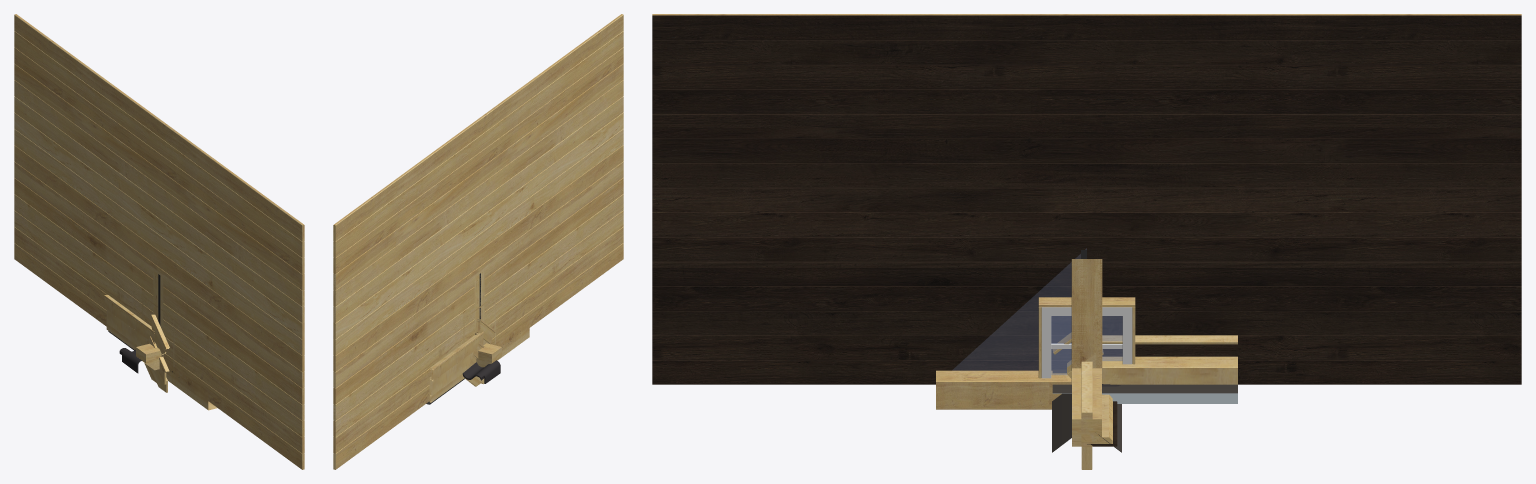
File: all_roof_parts.glb
3 renders of one model, left to right at view 1: azimuth 30°, elevation 25°; view 2: azimuth 150°, elevation 25°; view 3: azimuth 270°, elevation 25°, orthographic. The views are drawn at different scales.
Visible parts, largest first — view 1: wall_roof_blockhut, wall_roof_potdeksel, isolated_plate_roof_side_scaled, sturt_scaled, balk_roof_start, isoolated_plate_headstock_base, isolated_plate_roof_side_base, isolated_plate_roof_side_end, roof_tile_start; view 2: wall_roof_blockhut, wall_roof_potdeksel, isolated_plate_roof_side_scaled, sturt_scaled, isoolated_plate_headstock_base, roof_tile_start, balk_roof_start; view 3: wall_roof_blockhut, wall_roof_potdeksel, sturt_scaled, tri_window_glass, spantbeen_scaled, tiled_roof_headstock_scaled, isoolated_plate_headstock_base, window_600x600_frame, window_600x600_glass, balk_roof, isolated_plate_base_insulation, isolated_plate_base_metal (+4 smaller).
Part boxes in pixels (x1,y1,x2,y2): wall_roof_blockhut: [14, 14, 304, 469]; wall_roof_potdeksel: [14, 31, 304, 469]; isolated_plate_roof_side_scaled: [104, 295, 156, 346]; sturt_scaled: [165, 361, 217, 410]; balk_roof_start: [136, 343, 163, 370]; isoolated_plate_headstock_base: [153, 270, 163, 331]; isolated_plate_roof_side_base: [146, 336, 169, 392]; isolated_plate_roof_side_end: [151, 314, 169, 356]; roof_tile_start: [119, 346, 141, 373]; wall_roof_blockhut: [333, 14, 623, 469]; wall_roof_potdeksel: [333, 31, 623, 469]; isolated_plate_roof_side_scaled: [429, 331, 483, 396]; sturt_scaled: [494, 319, 529, 360]; isoolated_plate_headstock_base: [474, 270, 484, 334]; roof_tile_start: [462, 360, 500, 383]; balk_roof_start: [476, 343, 501, 367]; wall_roof_blockhut: [652, 14, 1521, 384]; wall_roof_potdeksel: [652, 39, 1521, 384]; sturt_scaled: [936, 370, 1071, 409]; tri_window_glass: [952, 248, 1086, 370]; spantbeen_scaled: [1094, 356, 1237, 384]; tiled_roof_headstock_scaled: [1072, 259, 1101, 368]; isoolated_plate_headstock_base: [1071, 259, 1102, 381]; window_600x600_frame: [1041, 307, 1132, 378]; window_600x600_glass: [1051, 316, 1122, 374]; balk_roof: [1072, 368, 1101, 446]; isolated_plate_base_insulation: [1102, 393, 1237, 403]; isolated_plate_base_metal: [1102, 384, 1237, 393].
Bounding box in the file's own units: 1.24 × 2.93 × 5.76.
10 materials, 3 textured.
